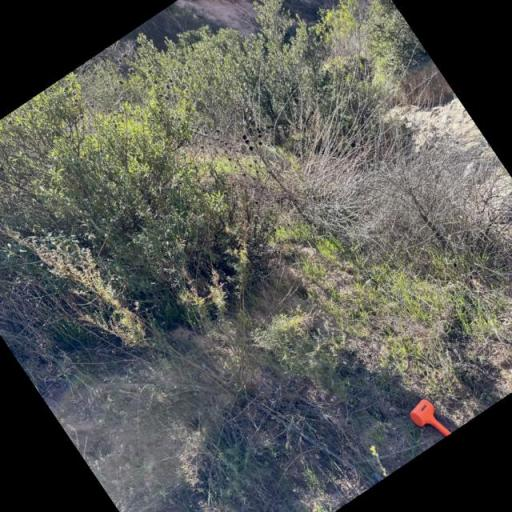mallet: (406, 396, 452, 446)
